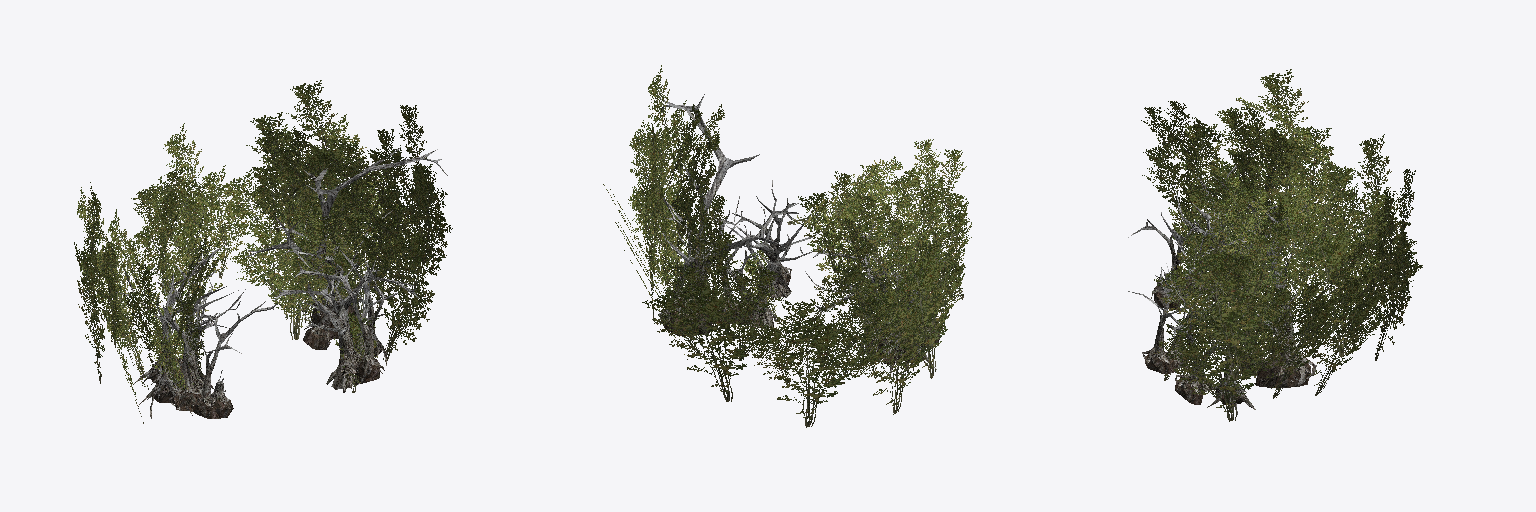
3 renders of one model, left to right at view 1: azimuth 30°, elevation 25°; view 2: azimuth 150°, elevation 25°; view 3: azimuth 270°, elevation 25°, orthographic.
Visible parts, largest first — view 1: Material_#131, wall_03, Material_#10; view 2: Material_#131, wall_03; view 3: Material_#131, wall_03, Material_#10.
Part boxes in pixels (x1,y1,x2,y2): Material_#131: (74,80,452,423); wall_03: (116,147,447,418); Material_#10: (150,299,381,418); Material_#131: (603,65,971,427); wall_03: (657,94,945,375); Material_#131: (1141,69,1422,421); wall_03: (1128,153,1316,416); Material_#10: (1145,276,1310,404).
Size of the model in its own units: 24.06 by 19.25 by 18.67.
3 materials, 3 textured.